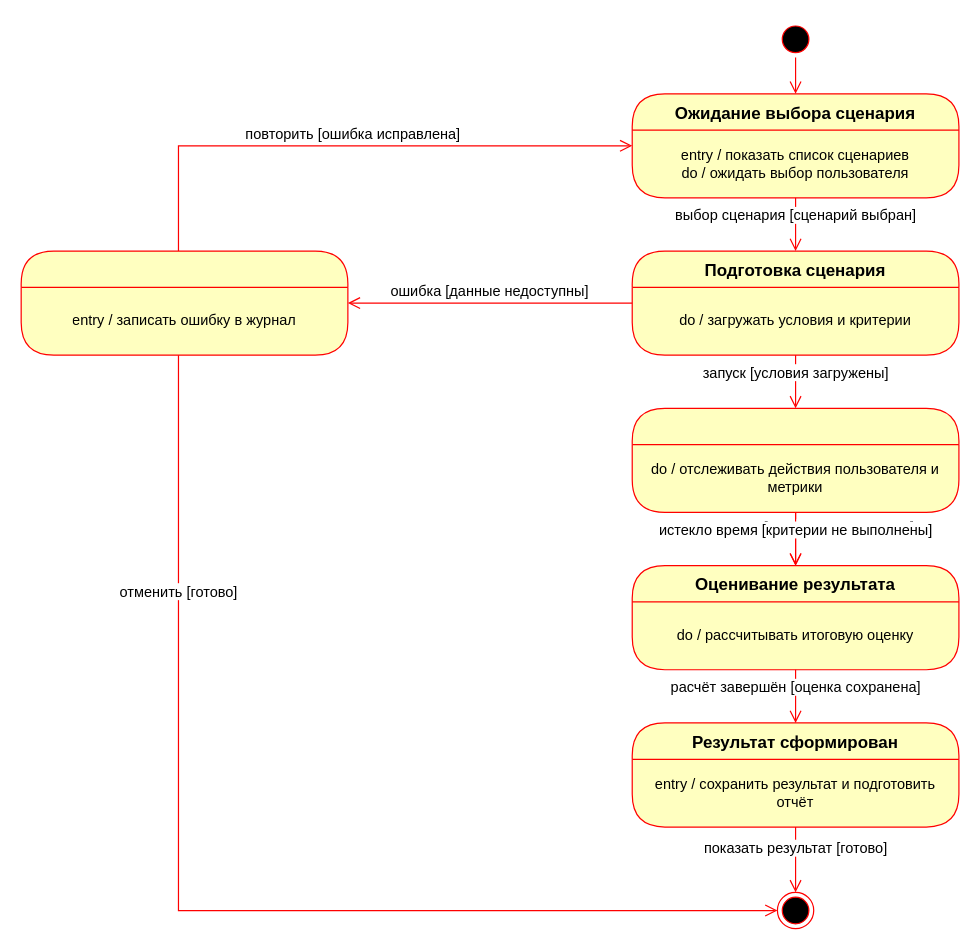
Some shapes in this 980 by 950 pixel diagram are drawn without their labels. Here are the shapes that lost their labels. From the top down, the box of each, then its label:
(20, 250, 348, 355): Ошибка сценария
(631, 407, 959, 512): Сценарий запущен
